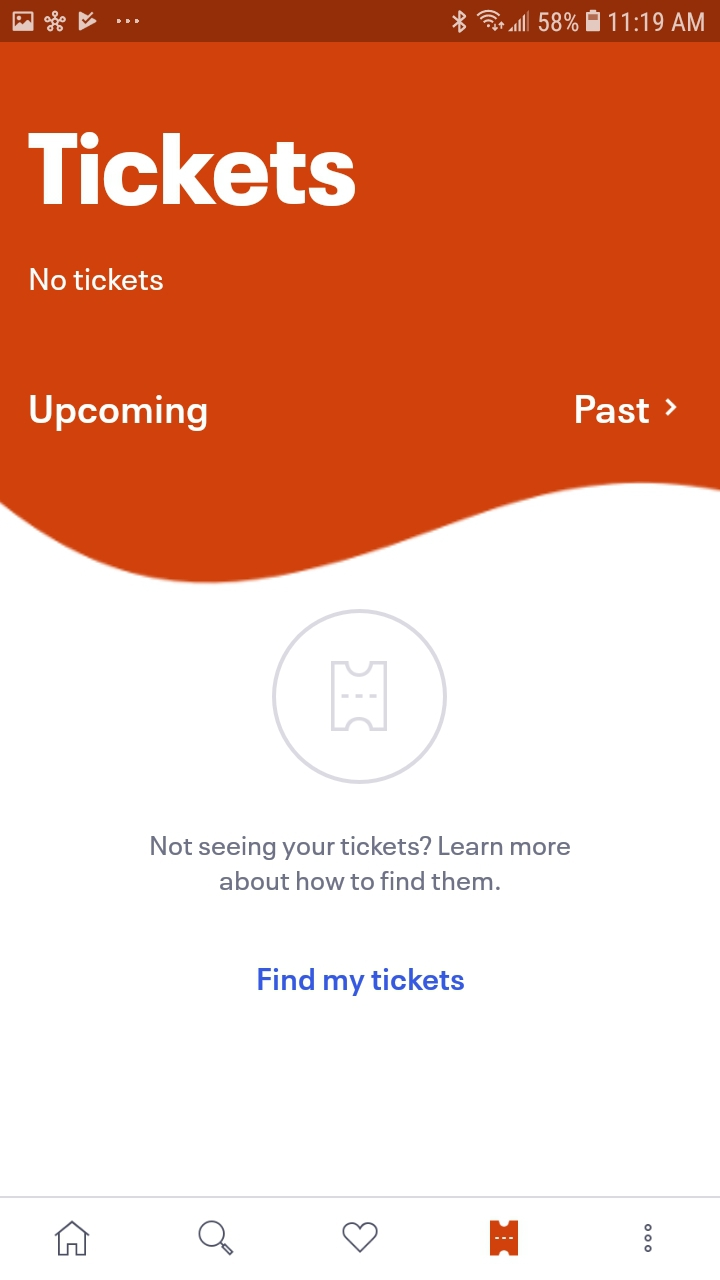Icon: (199, 1219, 235, 1256), (55, 1219, 91, 1256), (342, 1221, 379, 1254), (490, 1219, 519, 1256), (643, 1223, 652, 1253), (664, 398, 677, 418)
Image: (271, 608, 448, 785)
Text: (28, 131, 356, 207), (151, 835, 571, 892), (30, 395, 208, 433), (258, 967, 465, 997), (28, 266, 163, 290), (575, 394, 650, 424)
UpperTaskBar: (1, 1, 720, 43)
